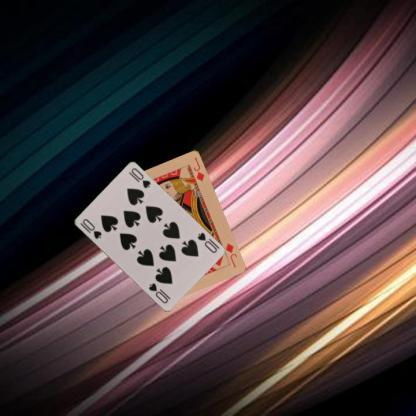10s: (80, 216, 103, 240), (195, 230, 218, 254)
Jd: (222, 240, 238, 269)
